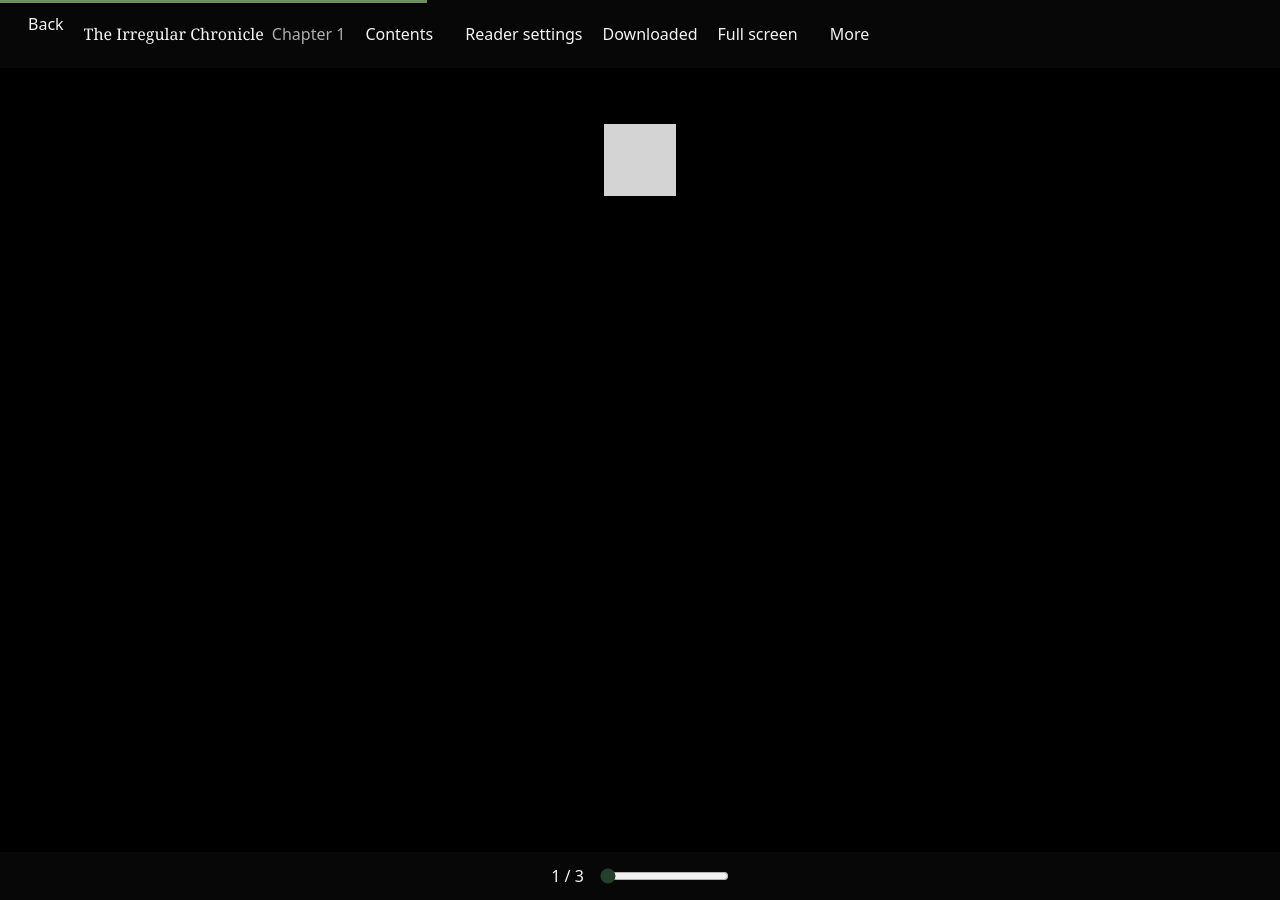
Test case: Sequential Reader › shows the reading units and their states in the contents drawer
Step 1. Click the button "Contents" → (399,34), box [353, 12, 445, 56]
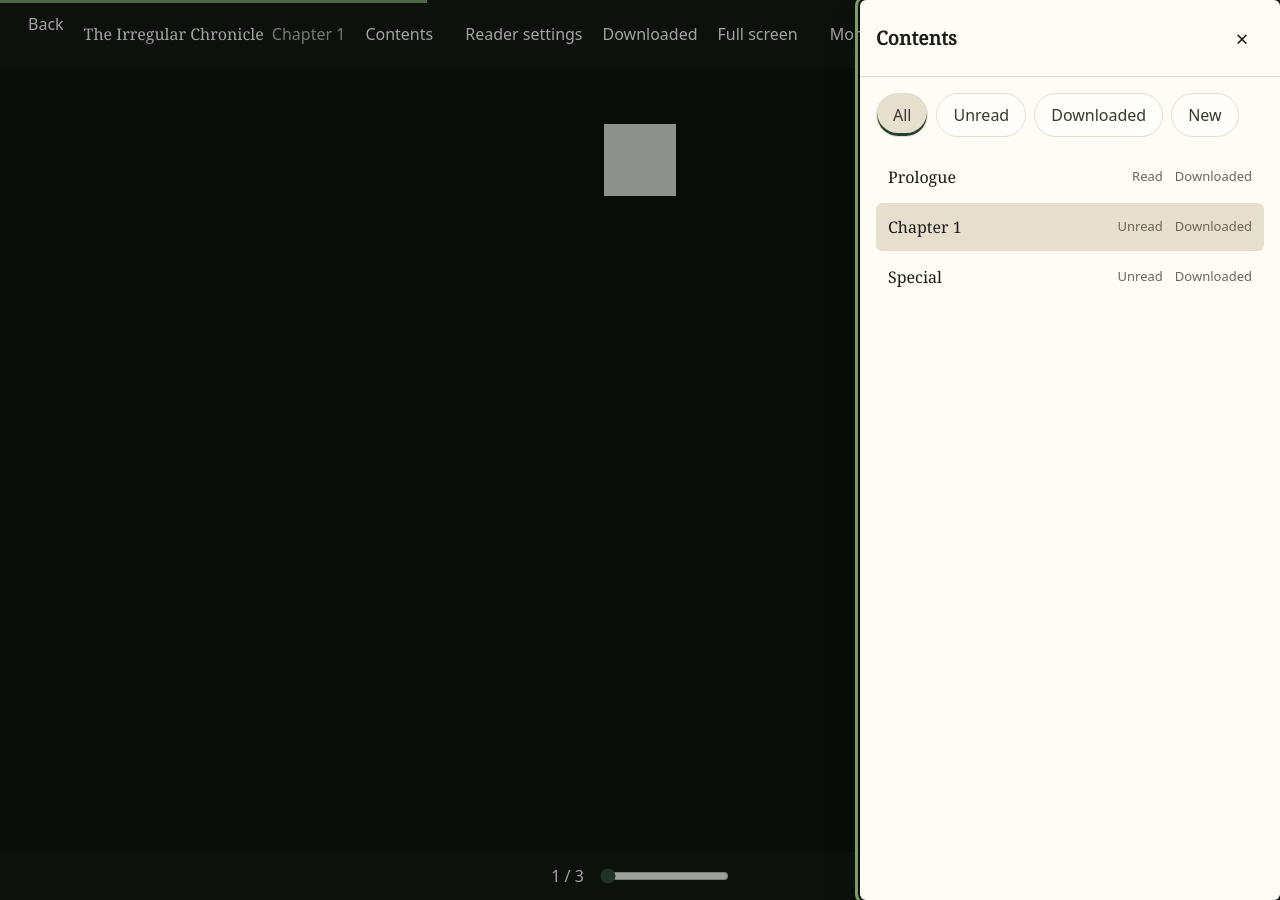
Result: the link "Chapter 1 Unread Downloaded" is shown at [876, 203, 1264, 251]
